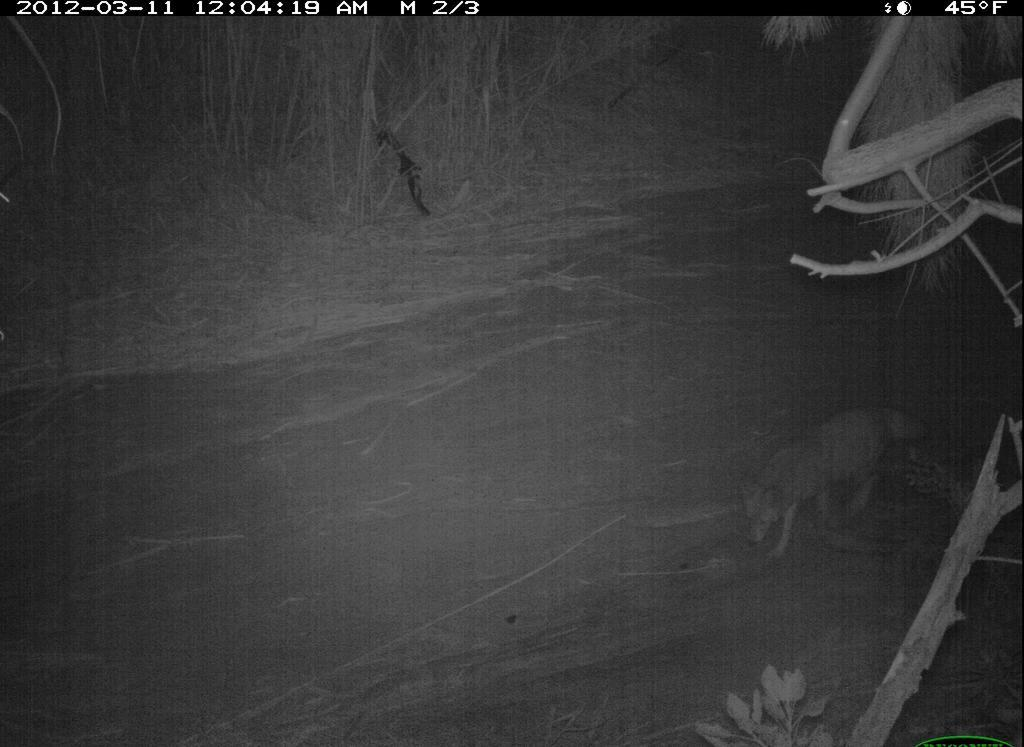coyote: (729, 396, 930, 556)
